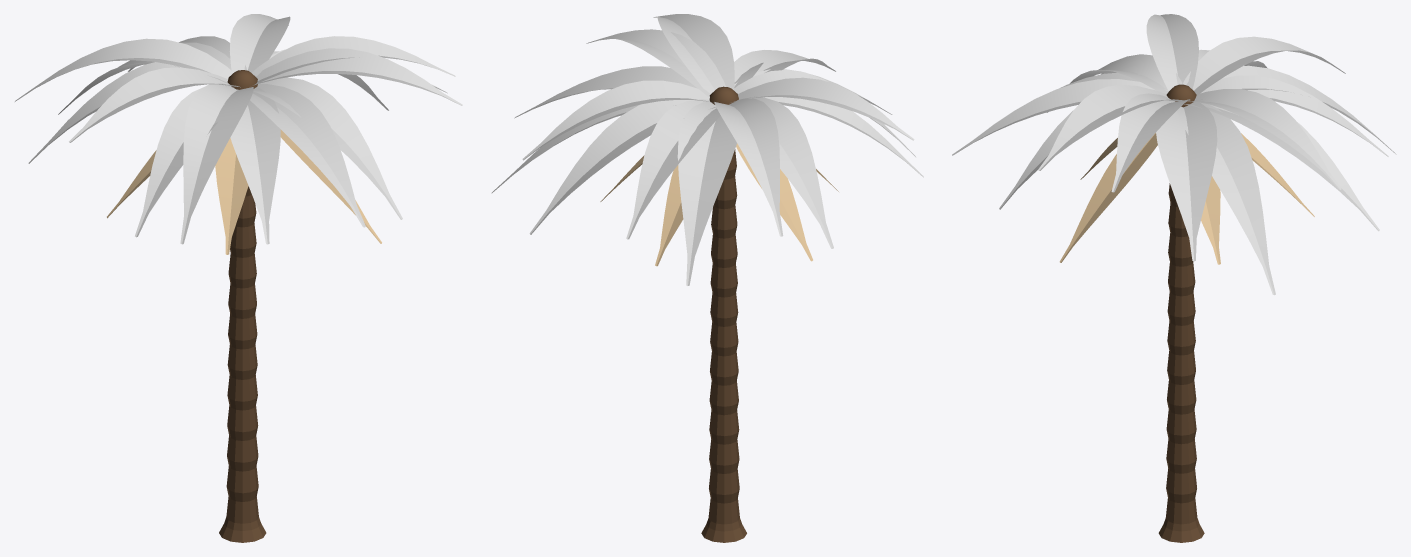
Rendered from palm.glb.
3 views of the same model, side by side, from view 1: azimuth 30°, elevation 25°; view 2: azimuth 150°, elevation 25°; view 3: azimuth 270°, elevation 25° (orthographic). The views are drawn at different scales.
Visible parts, largest first — view 1: fronds, palmmesh; view 2: fronds, palmmesh; view 3: fronds, palmmesh.
Boxes of the visible parts, box(x1,y1,x2,y2) form: fronds: box(15, 14, 462, 254); palmmesh: box(219, 70, 266, 542); fronds: box(491, 14, 923, 285); palmmesh: box(701, 86, 746, 542); fronds: box(952, 14, 1396, 295); palmmesh: box(1158, 84, 1204, 542).
Bounding box in the file's own units: 5.18 × 6 × 5.2.
